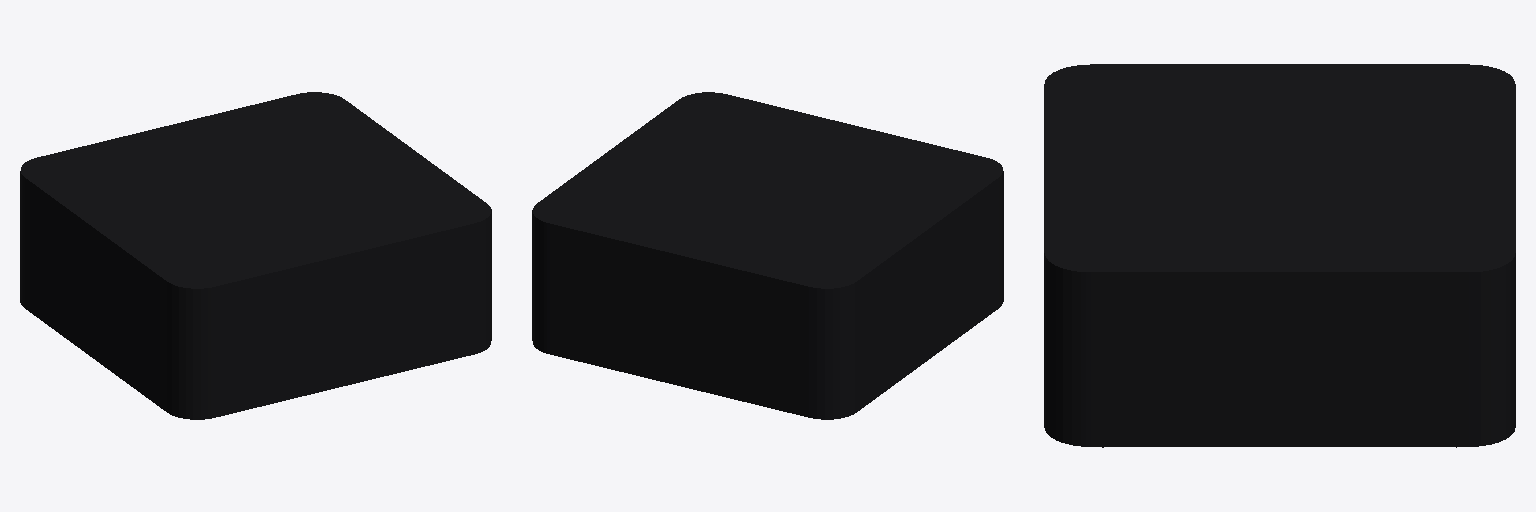
URDF robot description (mini_pc):
<?xml version="1.0"?>
<!--
  mini_pc.urdf
  바탕화면 Mini_PC.step → 변환. 단일 바디(링크 1개).
  - 원본 STEP 단위 mm → 메쉬 좌표 자체를 m로 스케일 (scale="1 1 1")
  - 원점: 바닥면 중심 (x:-0.0585~0.0585, y:-0.056~0.056, z:0~0.0492)
  - 치수 0.117 x 0.112 x 0.0492 m (삼각형 3,916면)
  - 시각(visual): 원본 메쉬. 충돌(collision): 박스로 단순화(치수=메쉬 바운딩박스)
  - 정적 소품(선반/스탠드 수납 등)이므로 스폰 시 AssetOptions.fix_base_link=True 권장
-->
<robot name="mini_pc">

  <material name="pc_black"> <color rgba="0.12 0.12 0.13 1.0"/> </material>

  <link name="base_link">
    <inertial>
      <origin xyz="0 0 0.0246"/>
      <mass value="1.0"/>
      <!-- 박스 관성 (m=1.0, 0.117x0.112x0.0492) -->
      <inertia ixx="0.001247" ixy="0" ixz="0" iyy="0.001342" iyz="0" izz="0.002186"/>
    </inertial>

    <visual>
      <origin xyz="0 0 0"/>
      <geometry><mesh filename="meshes/mini_pc.stl" scale="1 1 1"/></geometry>
      <material name="pc_black"/>
    </visual>

    <collision>
      <origin xyz="0 0 0.0246"/>
      <geometry><box size="0.117 0.112 0.0492"/></geometry>
    </collision>
  </link>
</robot>

--- Facts derived from the render (not from the file) ---
Views: 3 orthographic renders of the robot side by side, from view 1: azimuth 30°, elevation 25°; view 2: azimuth 150°, elevation 25°; view 3: azimuth 270°, elevation 25°.
Model mini_pc with 1 links and 0 joints (none), rooted at base_link, posed every joint at zero.
Links seen in each view (by area): view 1: base_link; view 2: base_link; view 3: base_link.
Link boxes in pixels (x1,y1,x2,y2): base_link: (20,92,491,419); base_link: (532,92,1003,419); base_link: (1044,64,1515,447).
Size in the robot's own frame: 0.117 by 0.112 by 0.0492 metres.
Meshes: 1 distinct files referenced, 1 mesh visuals loaded (1 binary STL).
